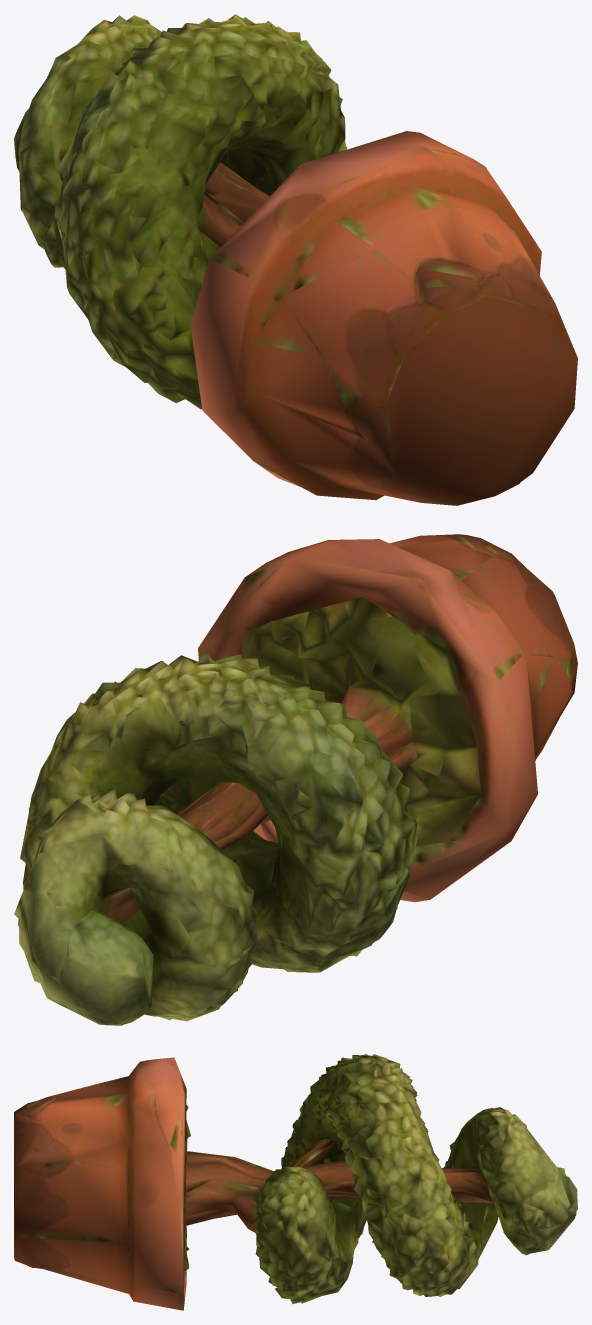
3 renders of one model, top to bottom at view 1: azimuth 30°, elevation 25°; view 2: azimuth 150°, elevation 25°; view 3: azimuth 270°, elevation 25°, orthographic. The views are drawn at different scales.
Parts seen in each view (by area): view 1: material; view 2: material; view 3: material.
Part boxes in pixels (x1,y1,x2,y2): material: (14, 14, 577, 505); material: (14, 534, 577, 1025); material: (14, 1054, 577, 1310).
Size of the model in its own units: 0.4447 by 0.4483 by 1.
Materials: 1 (1 with a texture image).
